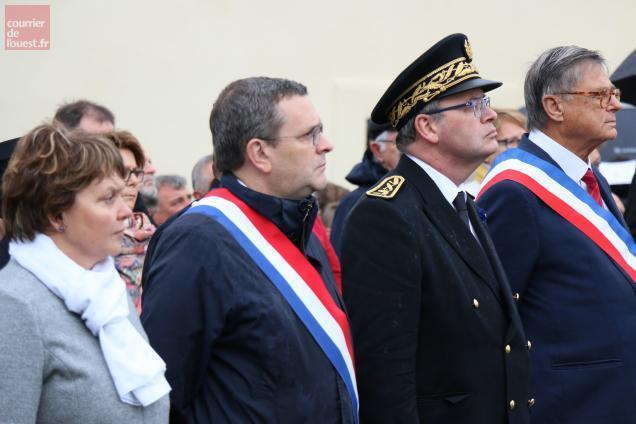without_mask: (280, 102, 334, 194), (74, 175, 131, 255), (579, 72, 623, 143), (456, 92, 501, 161)
